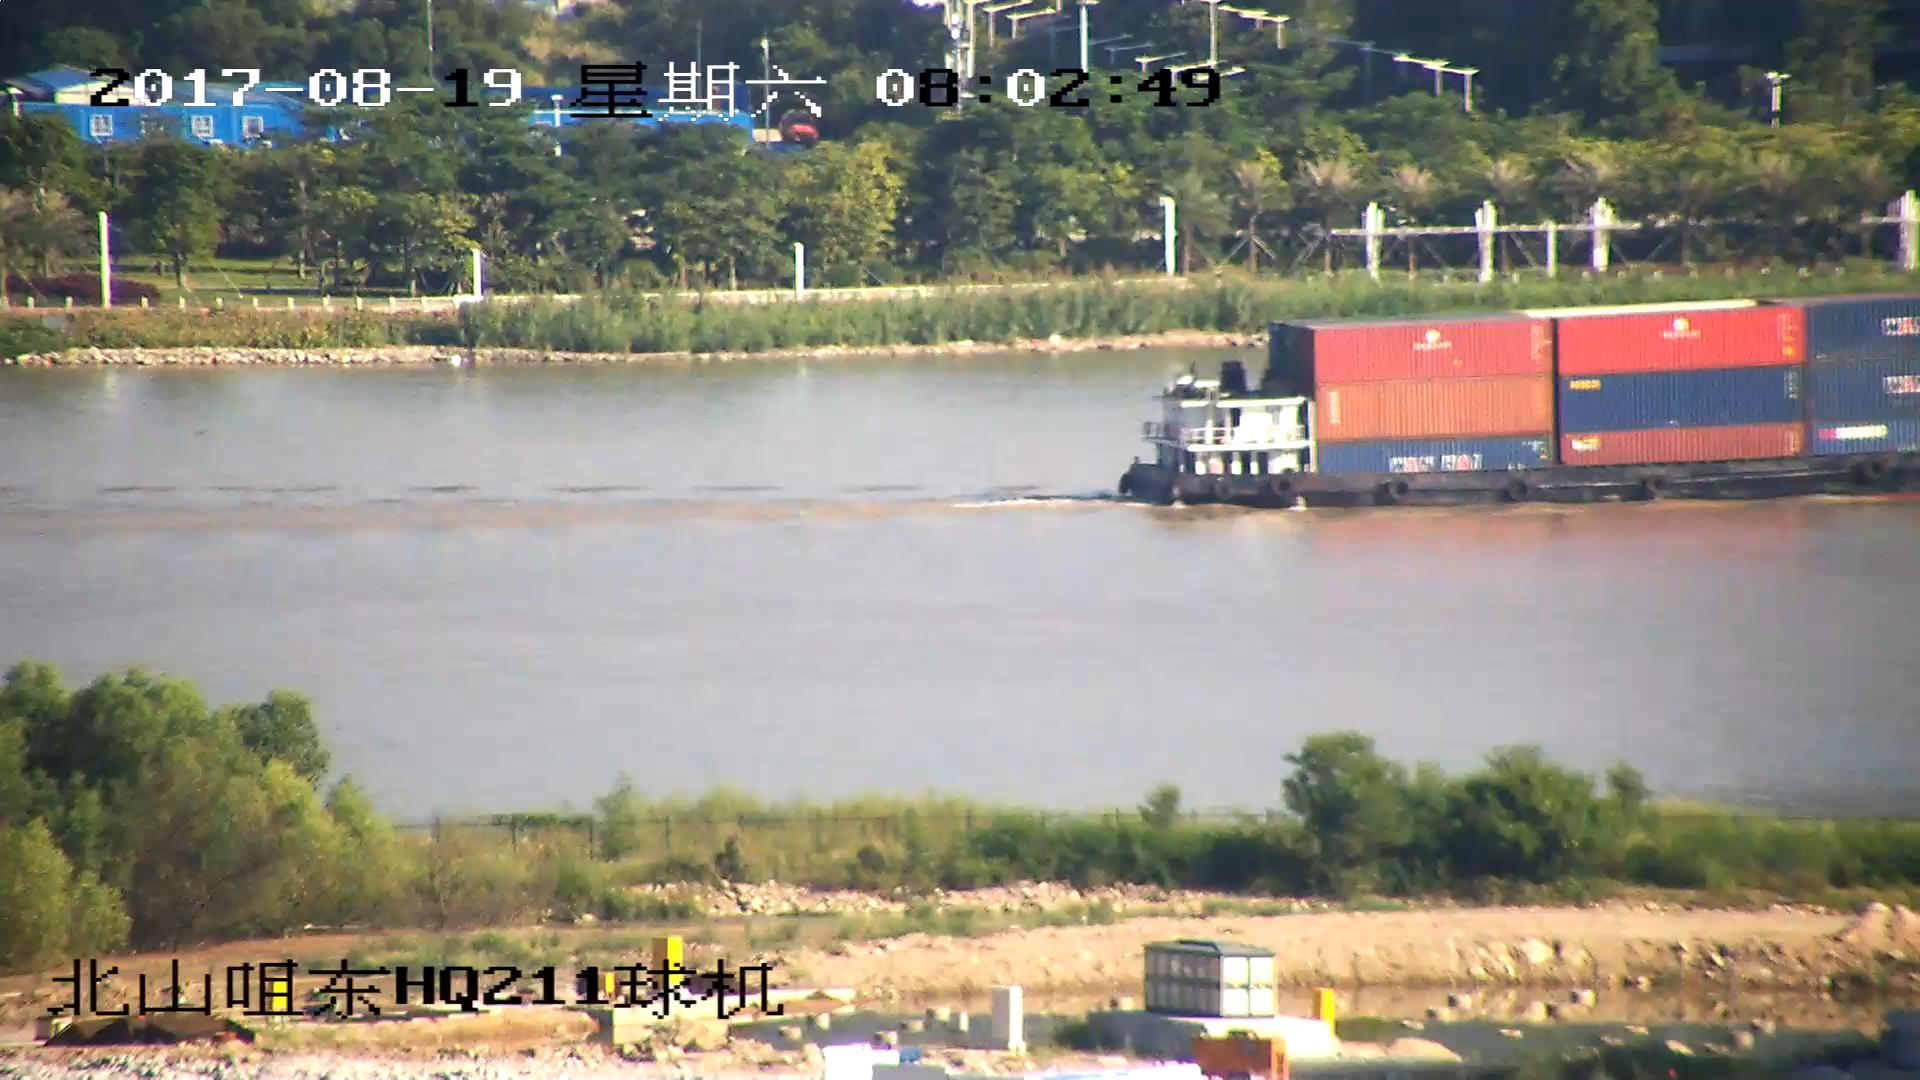container ship: (1112, 296, 1920, 510)
